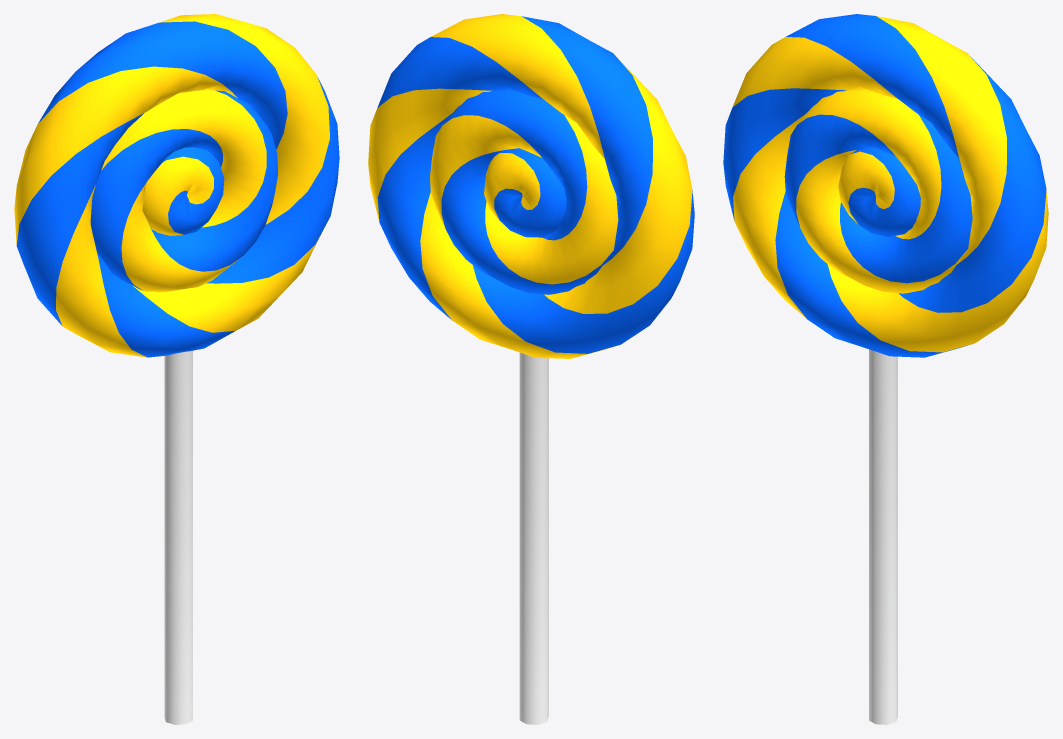
Rendered from Lollipop_01.glb.
The picture shows the model from 3 angles, left to right: view 1: azimuth 30°, elevation 25°; view 2: azimuth 150°, elevation 25°; view 3: azimuth 330°, elevation 25°; orthographic projection.
Parts seen in each view (by area): view 1: Lollipop_01; view 2: Lollipop_01; view 3: Lollipop_01.
Boxes of the visible parts, x1,y1,x2,y2 form: Lollipop_01: (14,14,339,724); Lollipop_01: (368,14,694,724); Lollipop_01: (723,14,1048,724).
Bounding box in the file's own units: 6.42 × 13.54 × 1.47.
Materials: 1 (1 with a texture image).
